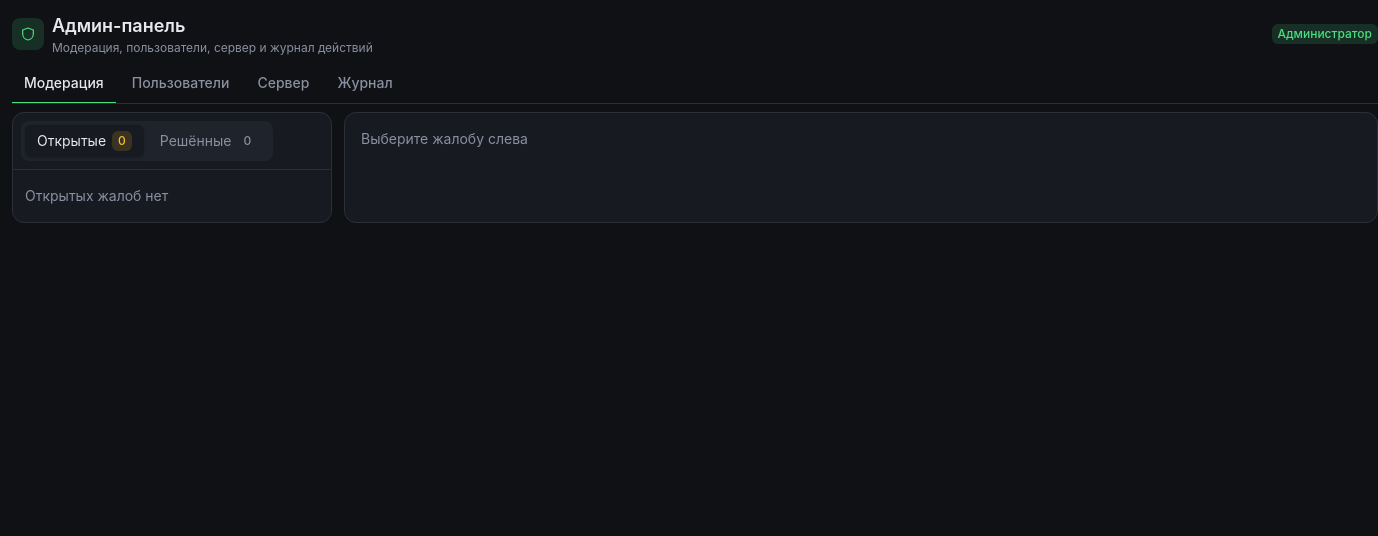
Test: users tab › finds a player and shows role and sanctions
Click the tab "Пользователи" at {"x": 181, "y": 84}, box [120,64,241,104]
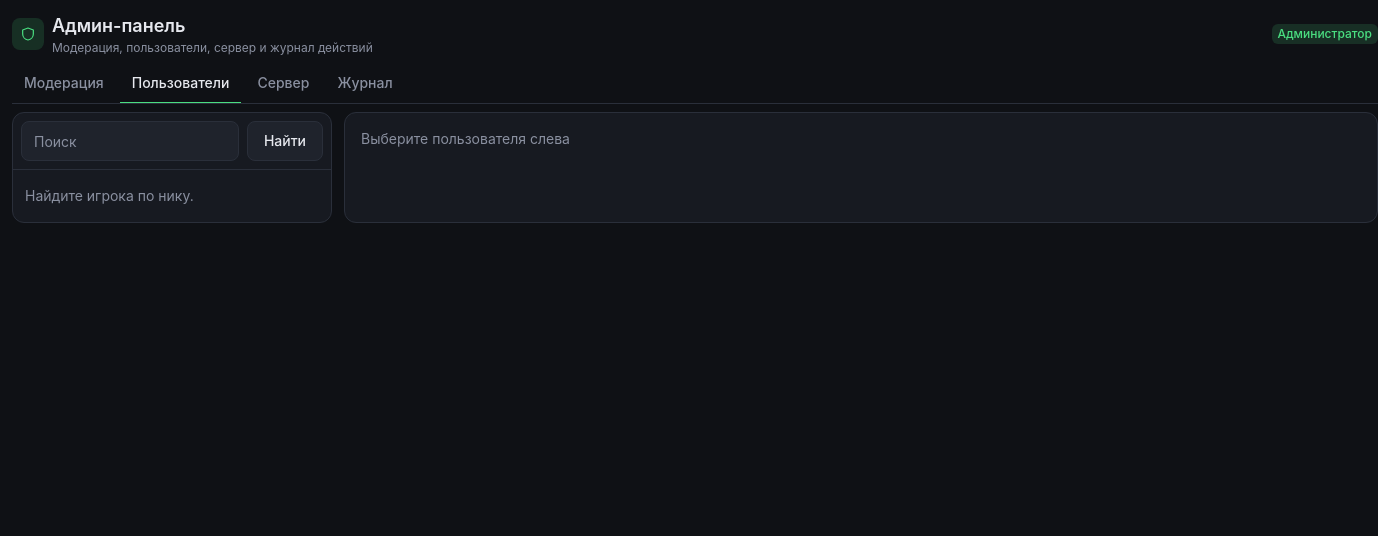
Type "ale" into the field labelled "Поиск" at {"x": 130, "y": 141}, box [21,121,239,161]
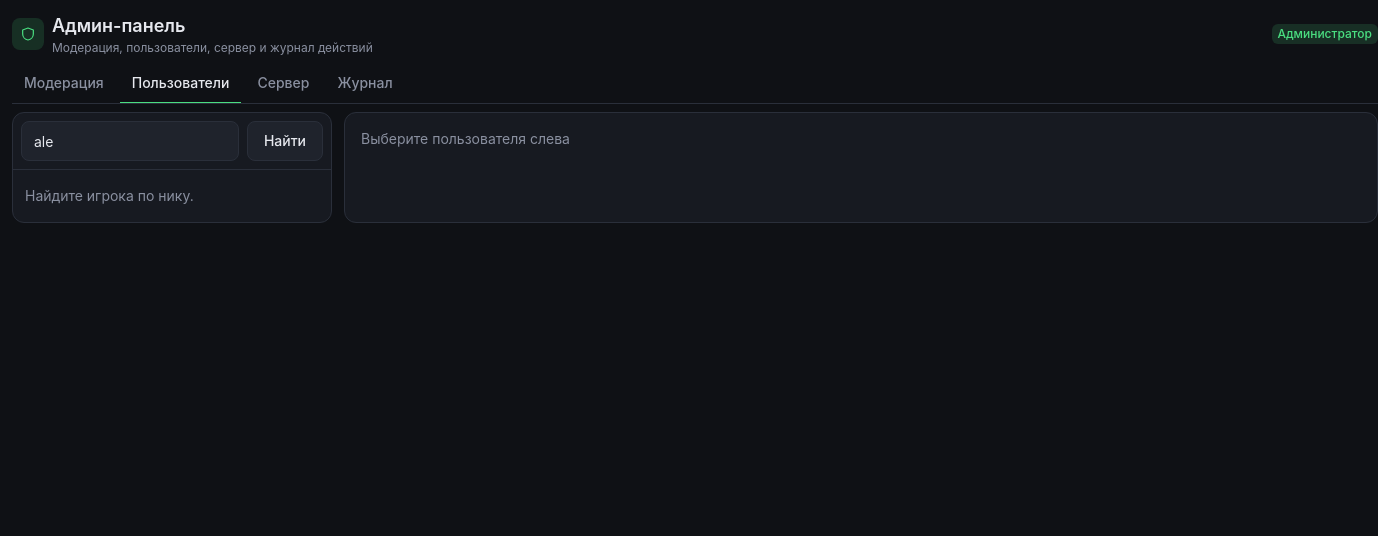
Click the button "Найти" at {"x": 285, "y": 141}, box [247,121,323,161]
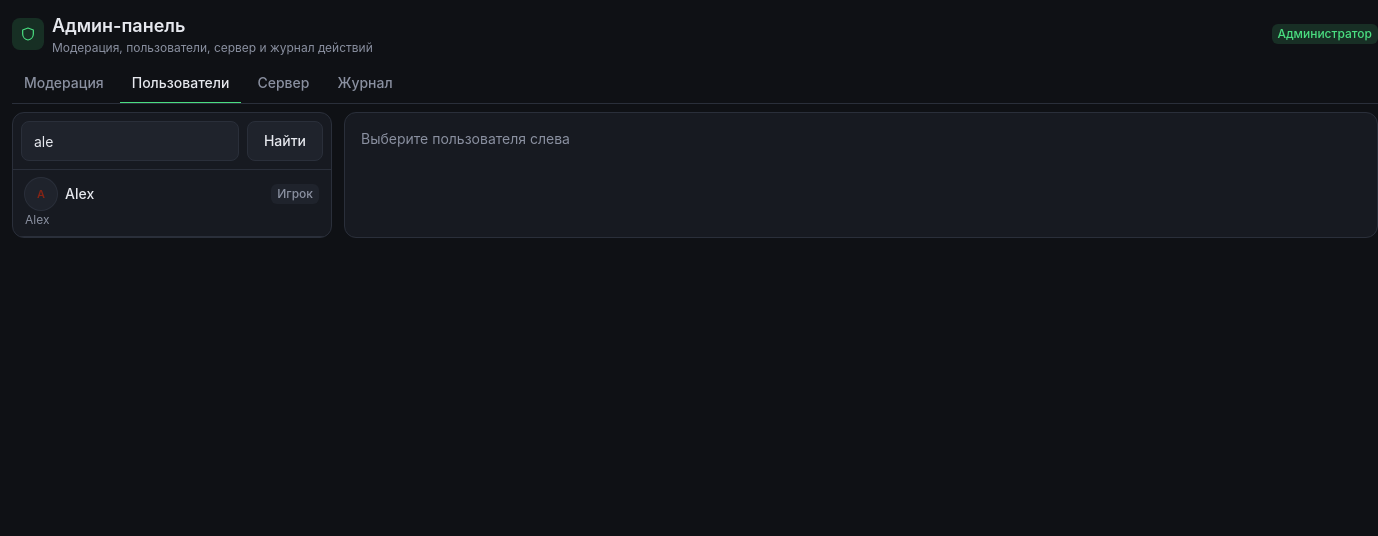
Click the 1st text "Alex" at {"x": 80, "y": 194}, box [65,185,94,202]
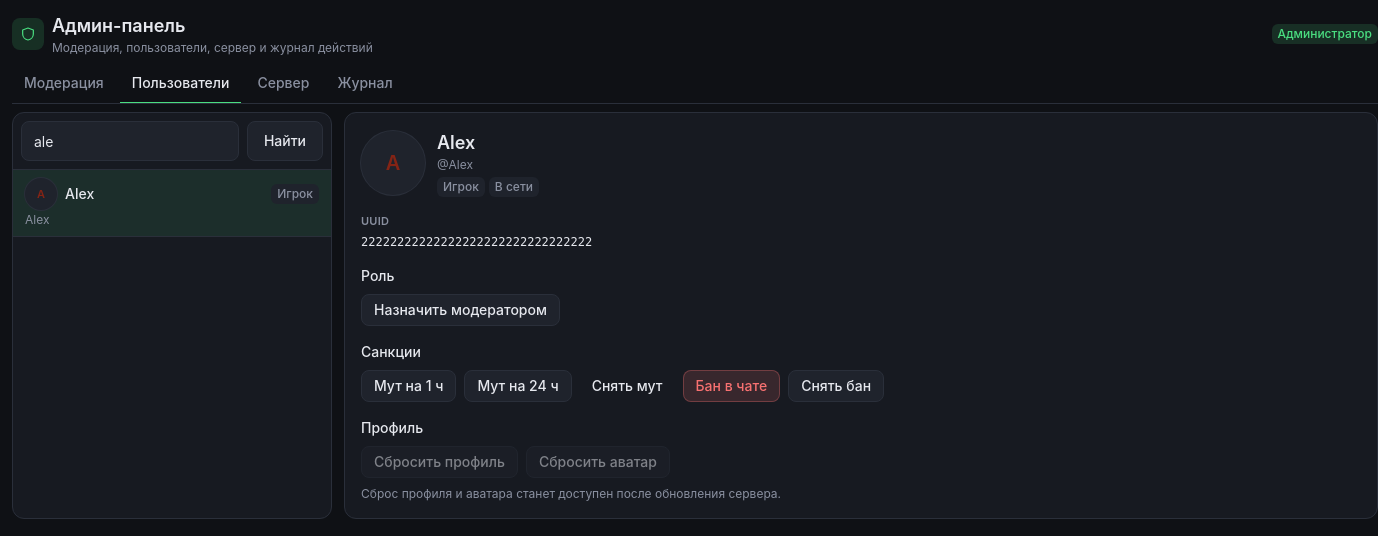
Expected: the text "UUID" is shown, [361,214,389,228]
Expected: the text "Санкции" is shown, [361,342,421,360]
Expected: the text "Сброс профиля и аватара станет доступен после обновления сервера." is shown, [361,486,781,500]
